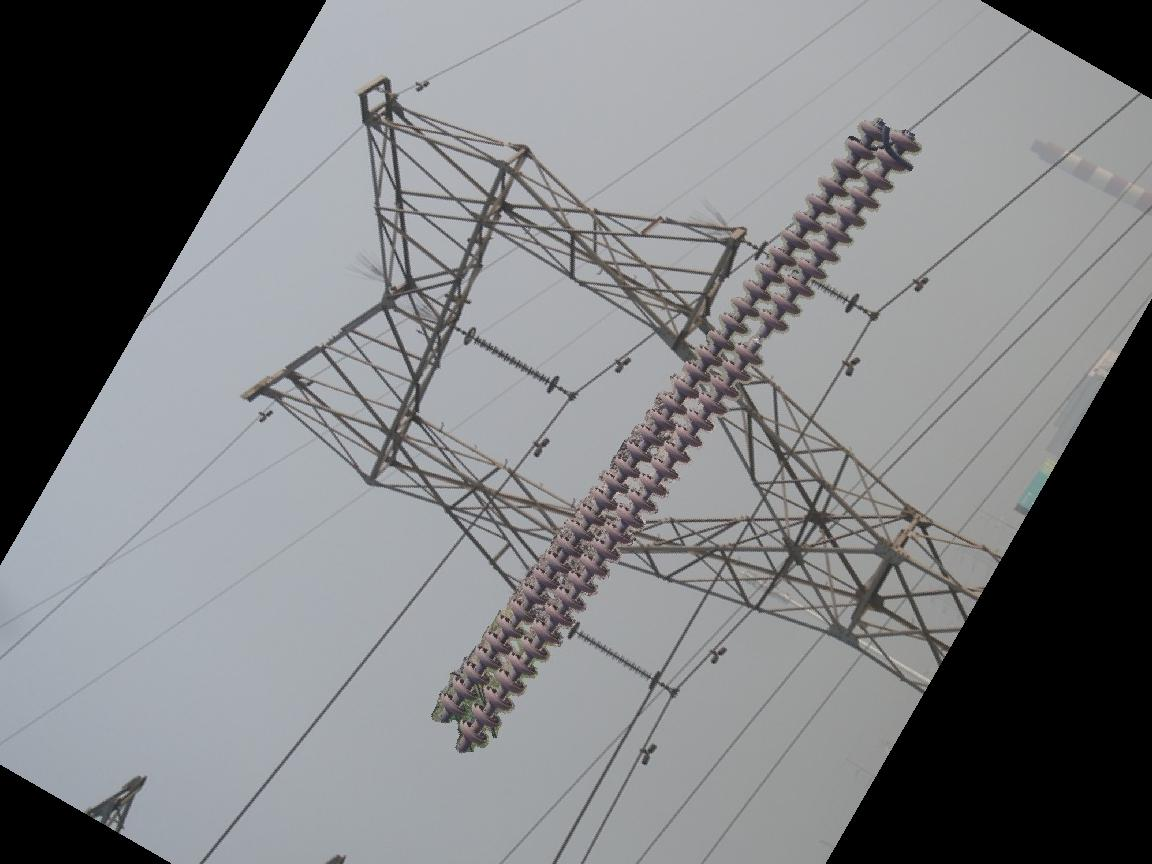insulator: (432, 110, 927, 758), (464, 329, 558, 391), (571, 619, 655, 686)
insulator_stringdrop: (729, 307, 791, 370)
